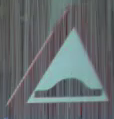Speed Breaker ahead: (9, 7, 106, 107)
